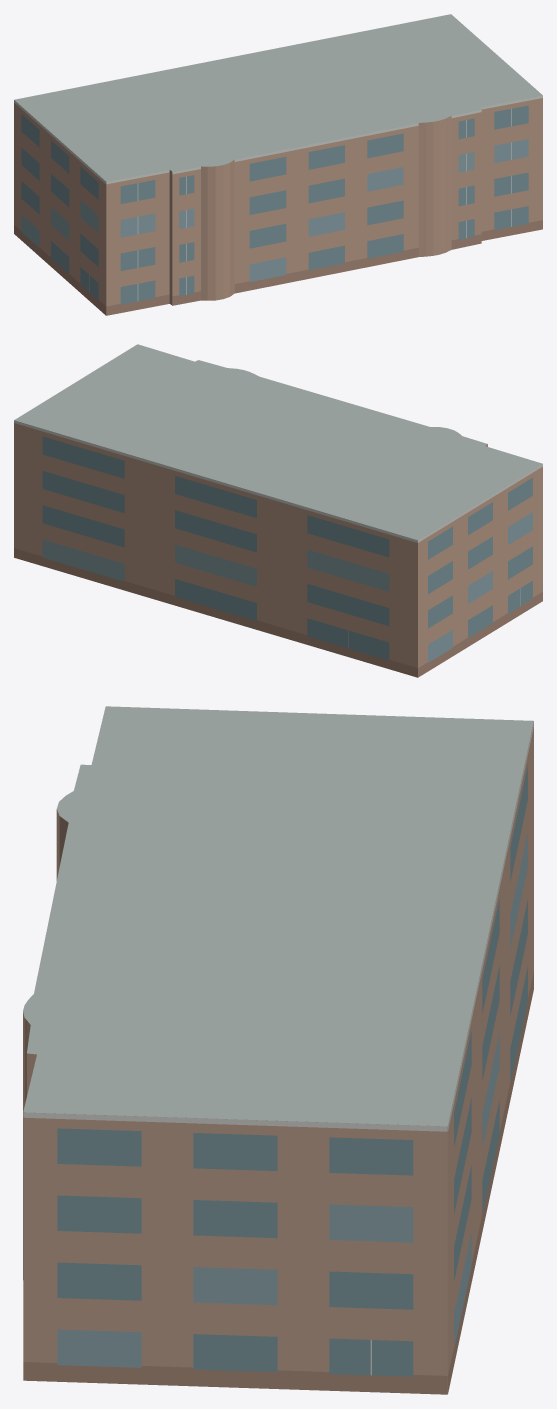
Rendered from survey-upis-32963537.glb.
3 renders of one model, top to bottom at view 1: azimuth 30°, elevation 25°; view 2: azimuth 150°, elevation 25°; view 3: azimuth 270°, elevation 25°, orthographic. The views are drawn at different scales.
Parts seen in each view (by area): view 1: survey-upis-32963537.tmp; view 2: survey-upis-32963537.tmp; view 3: survey-upis-32963537.tmp.
Boxes of the visible parts, <box> form: survey-upis-32963537.tmp: <box>14,14,542,315</box>; survey-upis-32963537.tmp: <box>14,344,542,677</box>; survey-upis-32963537.tmp: <box>23,706,533,1394</box>.
Bounding box in the file's own units: 40.99 × 12.2 × 21.07.
